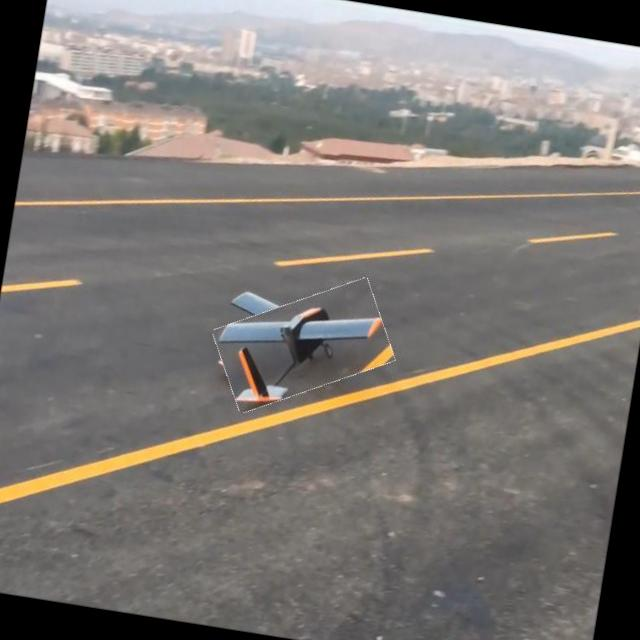UAV: (214, 240, 387, 418)
